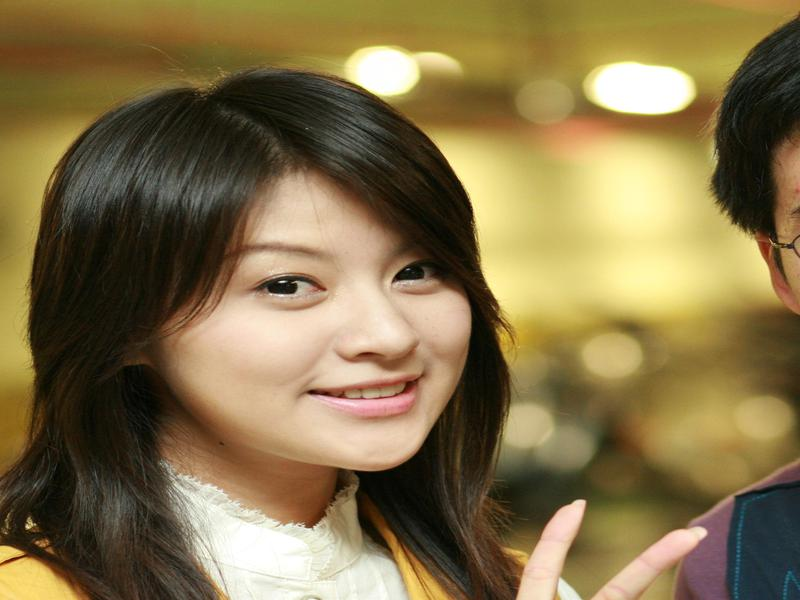person: (1, 69, 697, 600)
